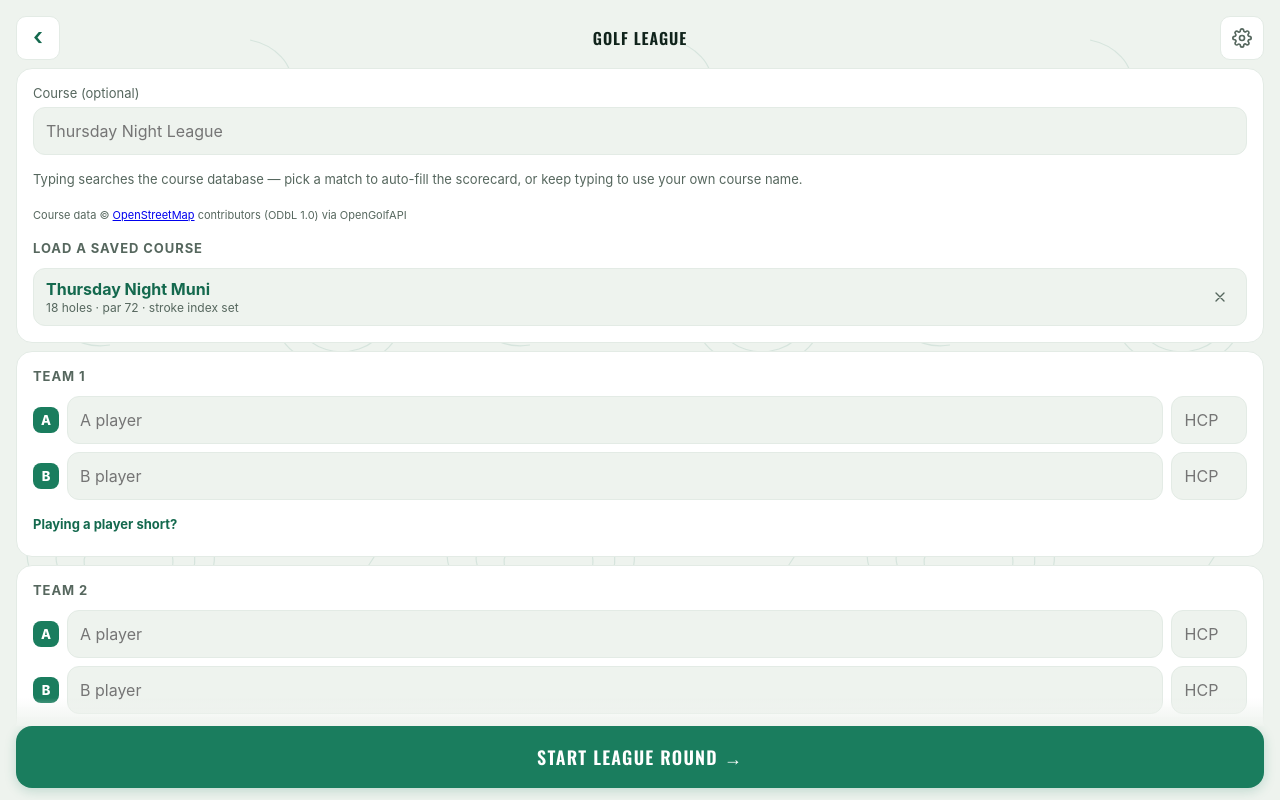
Test: working out a handicap › applies 70% for a player with fewer than three matches, and fills it in on request
The image size is (1280, 800).
Type "Sub" into the 1st field with placeholder "A player" at (615, 420), box [67,396,1163,444]
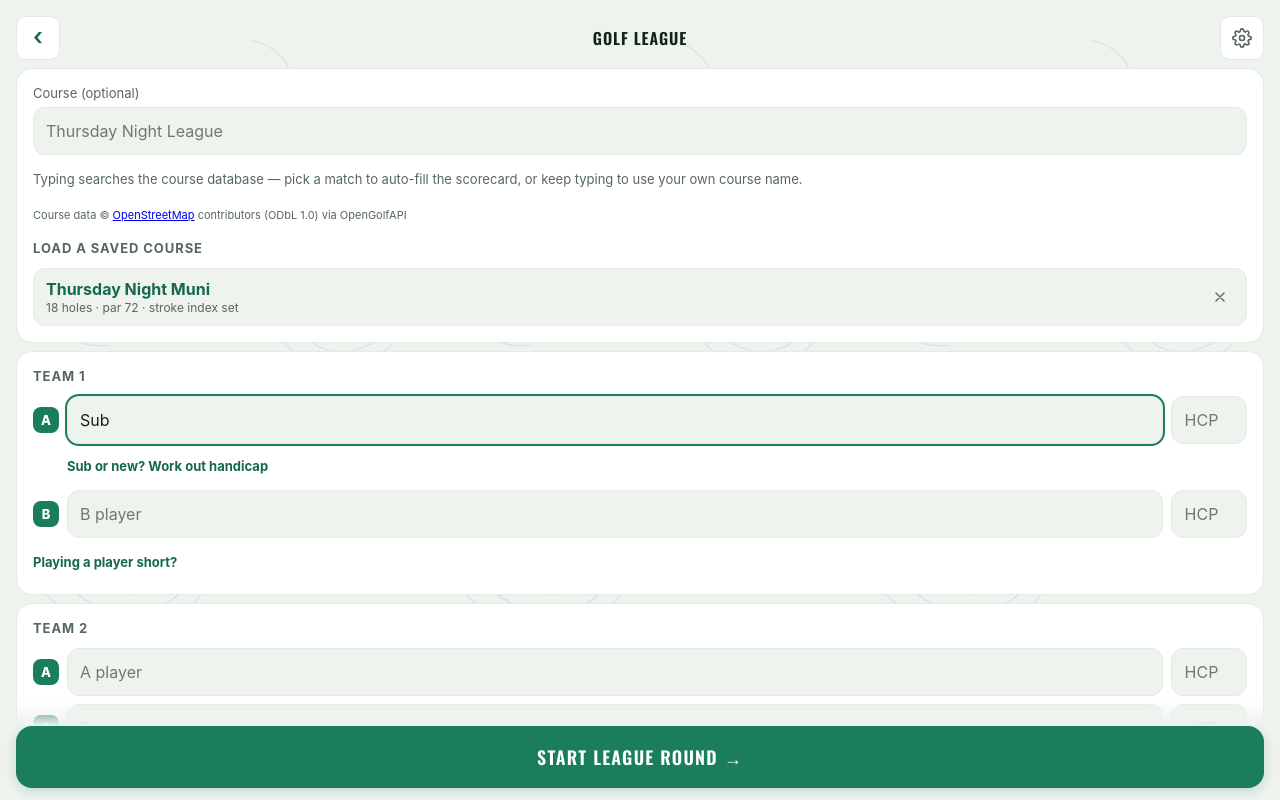
Click the button "Sub or new? Work out handicap" at (168, 466), box [67,450,268,482]
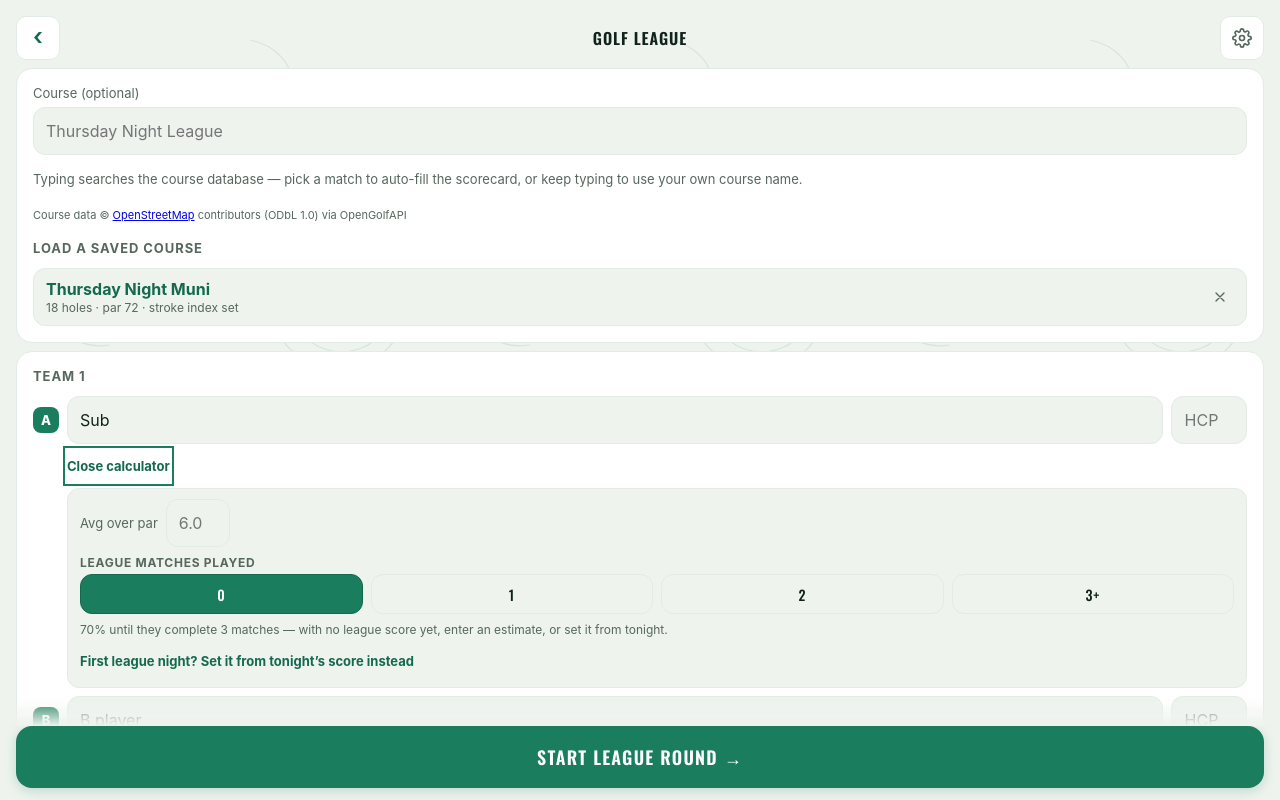
Type "6" into the number field named "Average over par for Sub" at (198, 523), box [166,499,230,547]
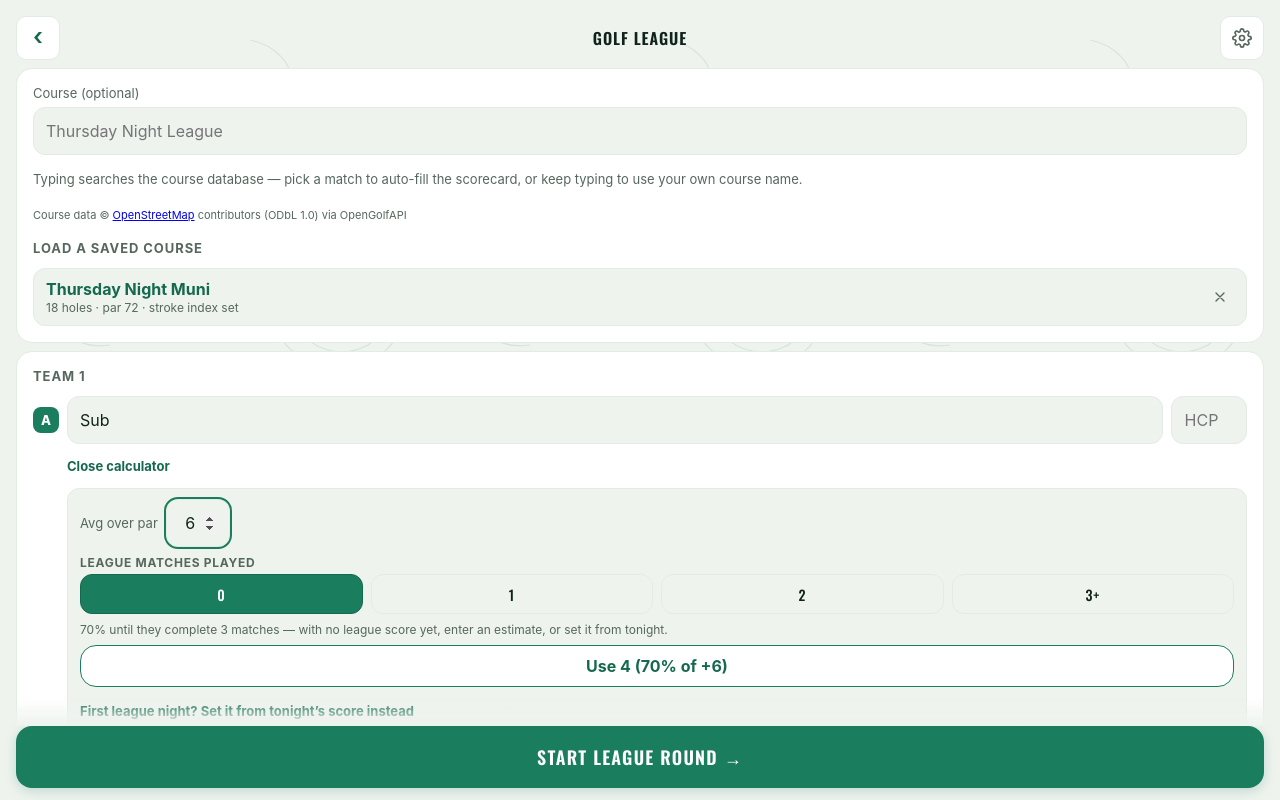
Click the button "Use 4 (70% of +6)" at (657, 666), box [80,645,1234,687]
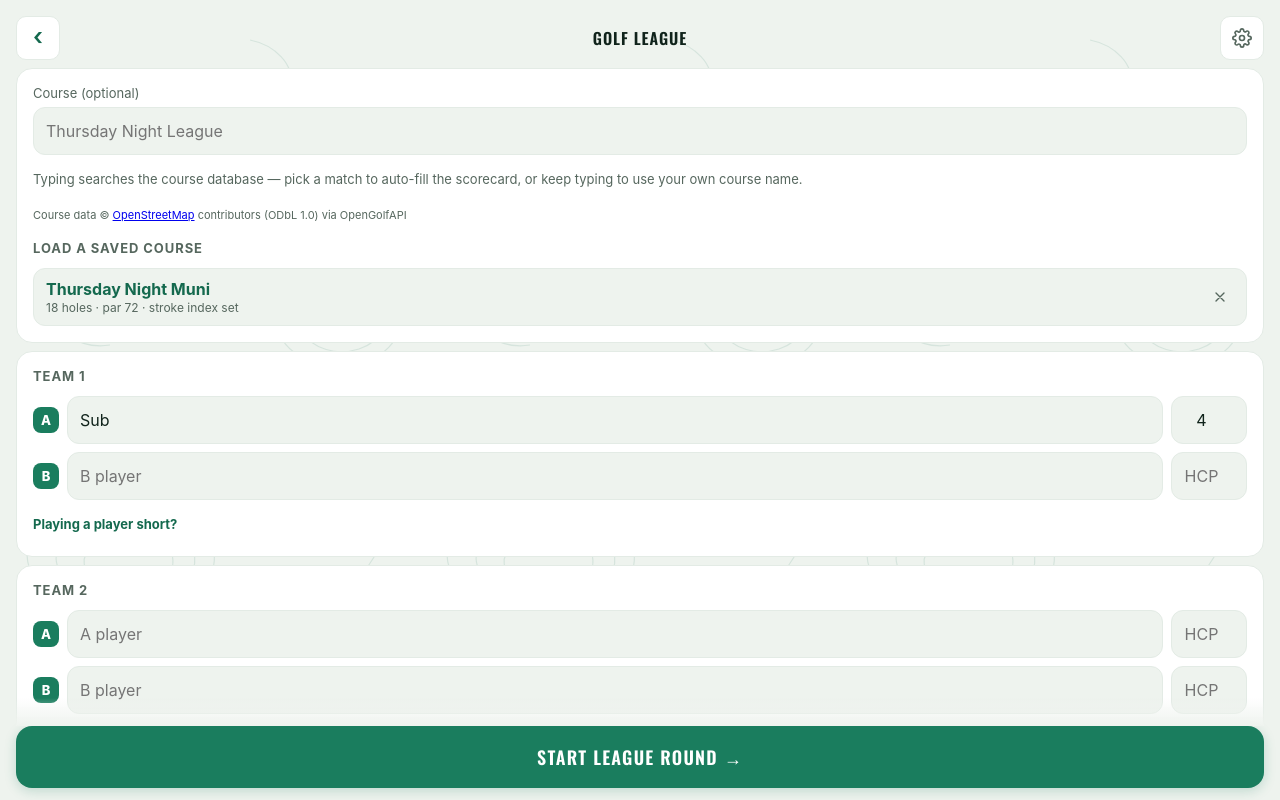
Expected: the number field with placeholder "HCP" holds "4", [1171,396,1247,444]
